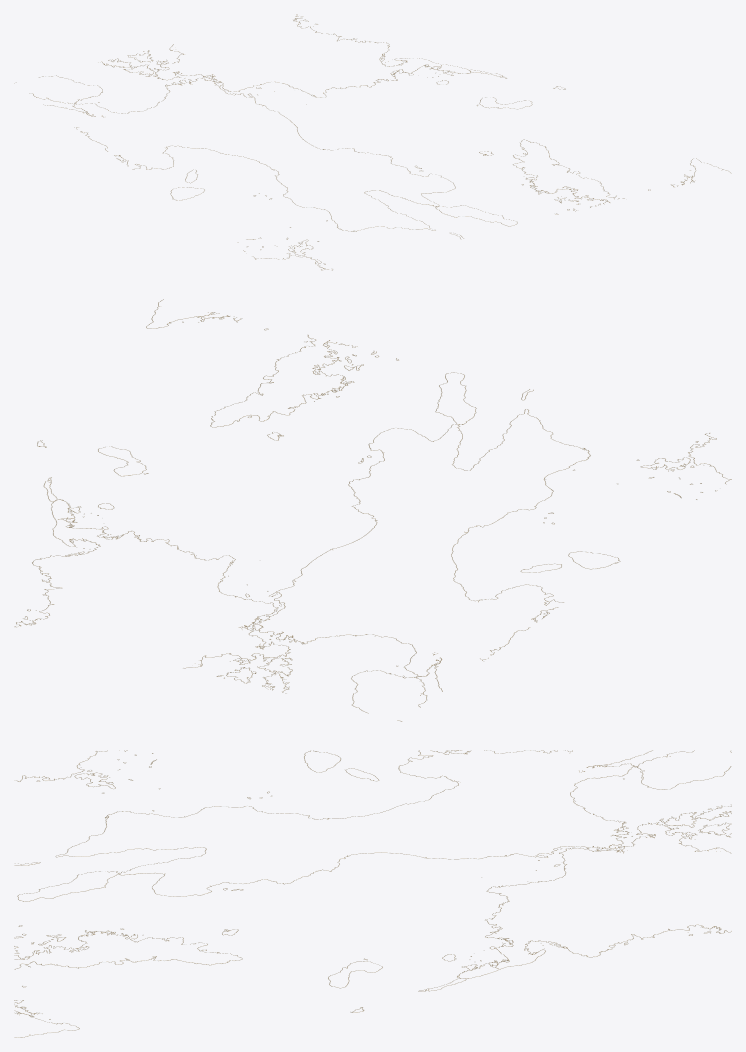
Rendered from beaches.glb.
3 renders of one model, top to bottom at view 1: azimuth 30°, elevation 25°; view 2: azimuth 150°, elevation 25°; view 3: azimuth 270°, elevation 25°, orthographic. The views are drawn at different scales.
Bounding box in the file's own units: 189604 × 84.56 × 200225.
